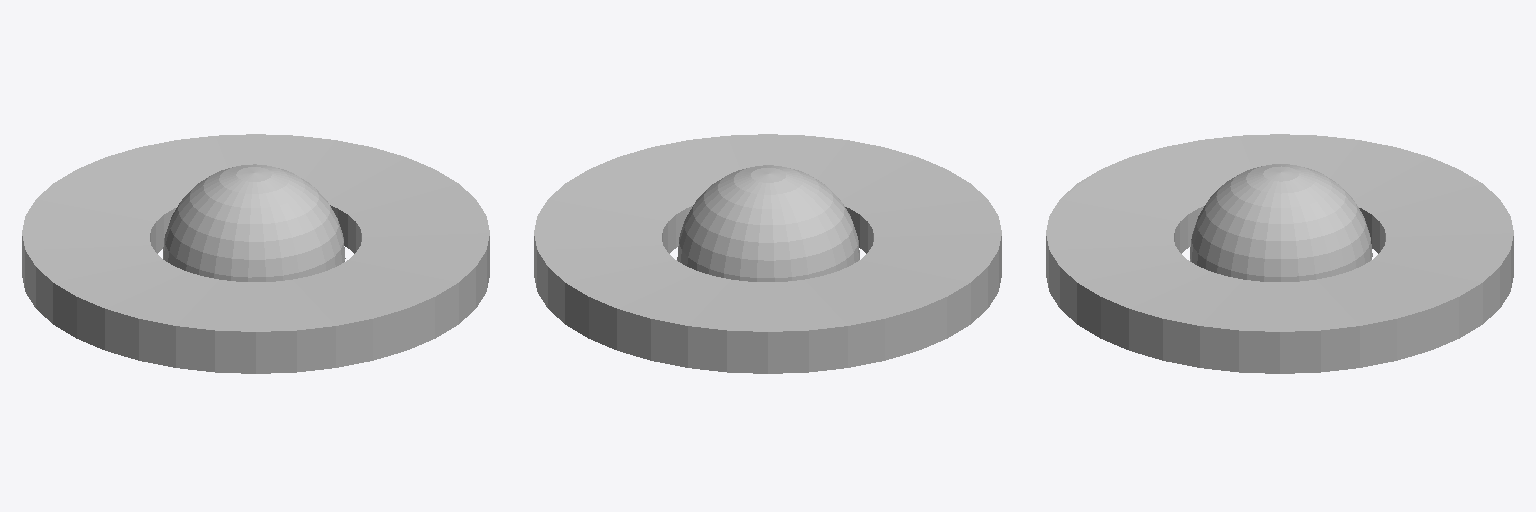
The model's file is alien1_old.obj.
3 renders of one model, left to right at view 1: azimuth 30°, elevation 25°; view 2: azimuth 150°, elevation 25°; view 3: azimuth 270°, elevation 25°, orthographic.
Parts seen in each view (by area): view 1: Cube; view 2: Cube; view 3: Cube.
Boxes of the visible parts, <box> form: Cube: <box>22,134,489,373</box>; Cube: <box>534,134,1001,373</box>; Cube: <box>1046,134,1513,373</box>.
Bounding box in the file's own units: 5.12 × 2 × 5.12.